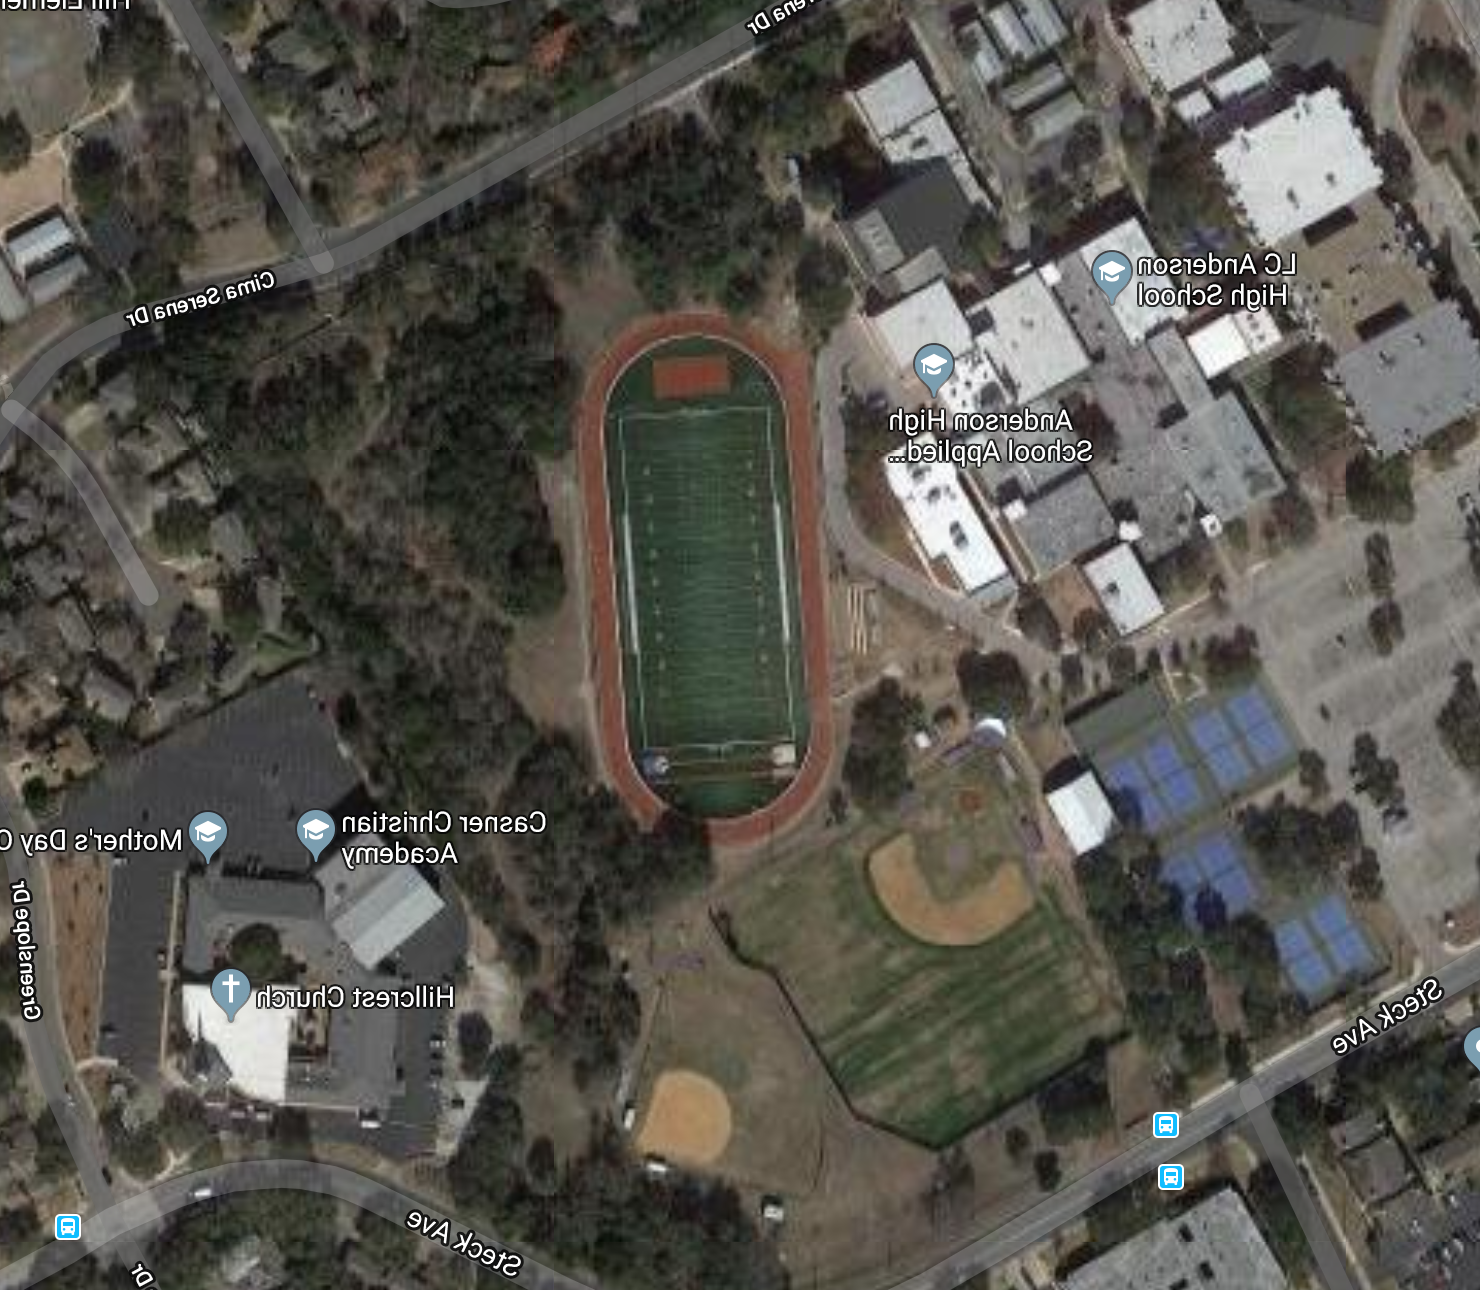baseball: (788, 834, 1125, 1090)
football: (549, 310, 865, 822)
